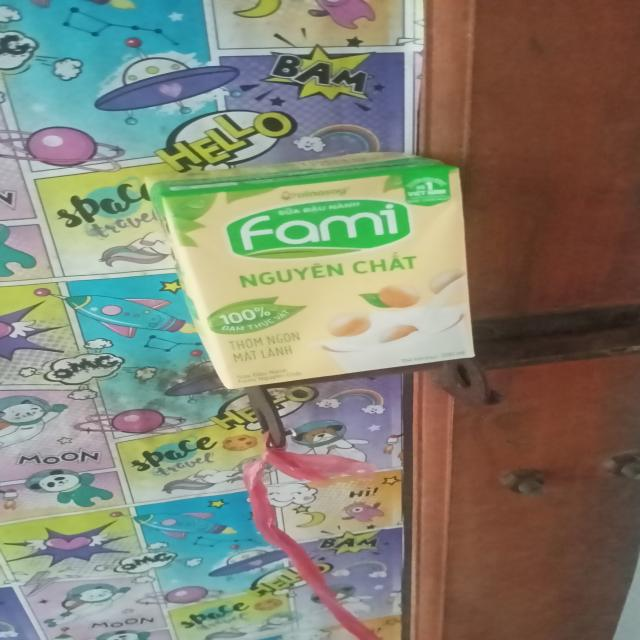Fami: (135, 159, 482, 390)
